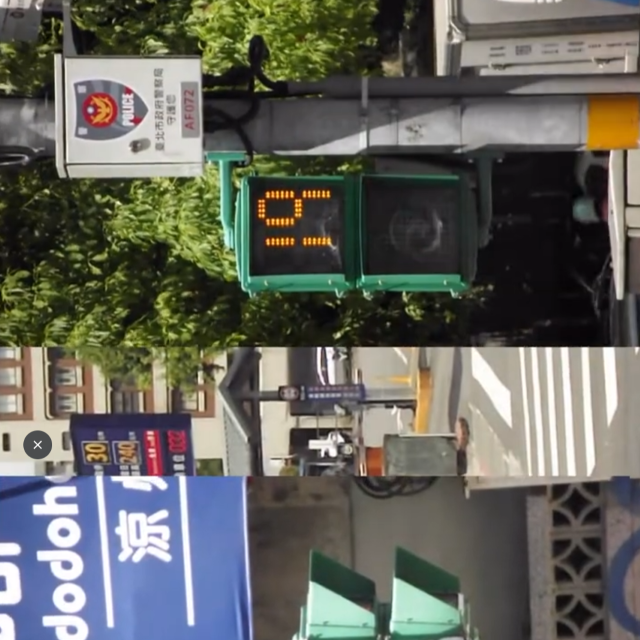green_light: (238, 174, 469, 286)
